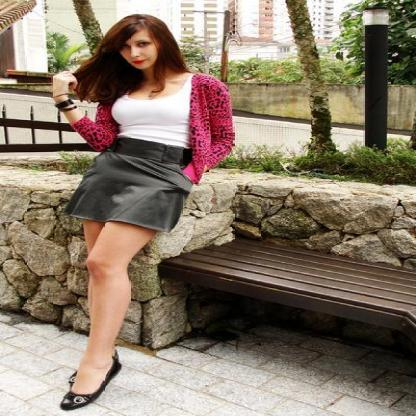jacket: (64, 72, 234, 184)
shirt: (112, 75, 196, 147)
shoe: (110, 351, 121, 374)
skirt: (62, 149, 188, 241)
